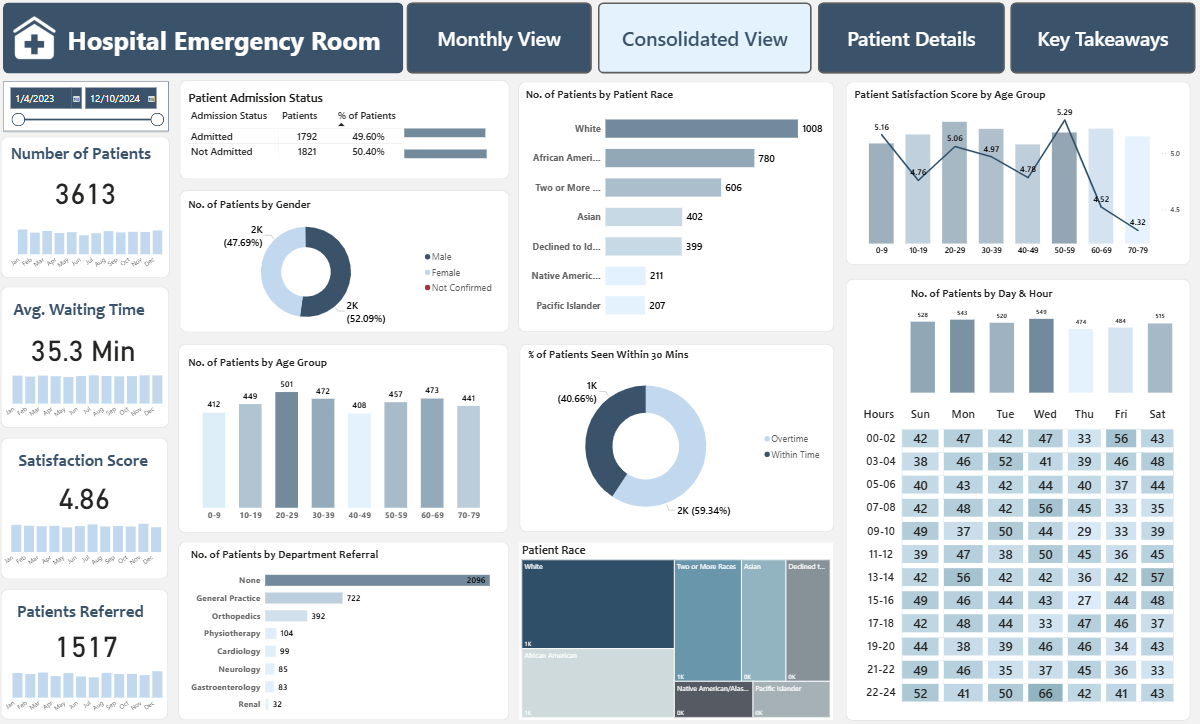

Layout of this report page (visuals, bound fields, positions):
{"tool":"powerbi","page":{"name":"Consolidated View","canvas":[2300,1400],"ordinal":1},"visuals":[{"type":"shape","box":[18.8,13.7,761.5,134.9],"z":0},{"type":"textbox","box":[127.6,48.3,636.2,77.6],"z":1000},{"type":"shape","box":[15.4,269.8,322.7,270],"z":2000},{"type":"card","fields":{"Values":["Hospital ER_Data (3).No. of Patients"]},"box":[100.7,338,152,66.6],"z":3000},{"type":"textbox","box":[29,275.7,291.9,64.7],"z":4000},{"type":"columnChart","fields":{"Category":["Calender.Month"],"Y":["Hospital ER_Data.No. of Patients"]},"box":[27.3,423.4,310.7,116.1],"z":5000},{"type":"shape","box":[13.7,554.9,321,269.8],"z":6000},{"type":"card","fields":{"Values":["Hospital ER_Data (3).Avg. Waiting Time"]},"box":[47.8,636.8,247.6,66.6],"z":7000},{"type":"textbox","box":[34.1,572,292,64.9],"z":8000},{"type":"columnChart","fields":{"Category":["Calender.Month"],"Y":["Avg(Hospital ER_Data.Patient Waittime)"]},"box":[15.5,703.4,320.7,120.7],"z":9000},{"type":"shape","box":[15.4,841.7,319.3,270],"z":10000},{"type":"card","fields":{"Values":["Avg(Hospital ER_Data (3).Patient Satisfaction Score)"]},"box":[97.3,916.8,152,66.6],"z":11000},{"type":"textbox","box":[42.7,860.5,266.3,64.9],"z":12000},{"type":"columnChart","fields":{"Category":["Calender.Month"],"Y":["Avg(Hospital ER_Data.Patient Satisfaction Score)"]},"box":[13.8,984.5,320.7,122.4],"z":13000},{"type":"shape","box":[15.4,1128.5,319.3,249.3],"z":14000},{"type":"card","fields":{"Values":["Hospital ER_Data (3).No. of Patient Referred"]},"box":[103.4,1201.7,144.8,67.2],"z":15000},{"type":"textbox","box":[41,1147.3,266.3,64.9],"z":16000},{"type":"columnChart","fields":{"Category":["Calender.Month"],"Y":["Hospital ER_Data.No. of Patient Referred"]},"box":[15.5,1269,320.7,112.1],"z":17000},{"type":"shape","box":[353.6,161.8,628.6,189.3],"z":18000},{"type":"pivotTable","title":"Patient Admission Status","fields":{"Rows":["Hospital ER_Data.Patient Admission Status"],"Values":["Hospital ER_Data.No. of Patients","Divide(Hospital ER_Data.No. of Patients, ScopedEval(Hospital ER_Data.No. of Patients, [Role.Columns]))"]},"box":[366.1,179.6,589.3,158.9],"z":19000},{"type":"shape","box":[351.8,1039.3,630.4,341.1],"z":20000},{"type":"barChart","fields":{"Y":["Hospital ER_Data.No. of Patients"],"Category":["Hospital ER_Data.Patient Admission Status"]},"box":[778.6,220.7,182.1,117.9],"z":21000},{"type":"shape","box":[351.8,662.5,628.6,360.7],"z":22000},{"type":"clusteredBarChart","fields":{"Y":["Hospital ER_Data.No. of Patients"],"Category":["Hospital ER_Data.Department Referral"]},"box":[371.4,1051.8,608.9,328.6],"z":23000},{"type":"clusteredColumnChart","fields":{"Category":["Hospital ER_Data.Age Group"],"Y":["Hospital ER_Data.No. of Patients"]},"box":[366.1,683.9,594.6,326.8],"z":24000},{"type":"shape","box":[1000.5,662.4,599.3,358.5],"z":25000},{"type":"donutChart","title":"% of Patients Seen Within 30 Mins","fields":{"Y":["Hospital ER_Data.No. of Patients"],"Category":["Hospital ER_Data.Waiting Status"]},"box":[1012.4,671,573.7,350],"z":26000},{"type":"shape","box":[353.4,370.5,628.3,271.5],"z":27000},{"type":"donutChart","title":"No. of Patients by Gender","fields":{"Y":["Hospital ER_Data.No. of Patients"],"Category":["Hospital ER_Data.Patient Gender"]},"box":[365.4,384.1,597.6,257.8],"z":28000},{"type":"shape","box":[998.3,163.8,601.7,477.6],"z":29000},{"type":"clusteredBarChart","fields":{"Y":["Hospital ER_Data.No. of Patients"],"Category":["Hospital ER_Data.Patient Race"]},"box":[1009,175.9,577.1,461],"z":30000},{"type":"shape","box":[1620.7,539.7,656.9,841.4],"z":31000},{"type":"pivotTable","fields":{"Rows":["Hospital ER_Data.Waittime Interval"],"Columns":["Calender.Day"],"Values":["Hospital ER_Data.No. of Patients"]},"box":[1646.6,775.9,605.2,586.2],"z":32000},{"type":"clusteredColumnChart","title":"No. of Patients by Day & Hour","fields":{"Y":["Hospital ER_Data.No. of Patients"],"Category":["Calender.Day"]},"box":[1741.4,555.2,510.3,208.6],"z":33000},{"type":"actionButton","box":[787.1,13.7,351.7,134.9],"z":34000},{"type":"actionButton","box":[1150.7,13.7,406.3,134.9],"z":35000},{"type":"actionButton","box":[1936.1,13.7,351.7,134.9],"z":36000},{"type":"actionButton","box":[1569,13.7,355.1,134.9],"z":37000},{"type":"slicer","fields":{"Values":["Calender.Date"]},"box":[19,163.8,315.5,94.8],"z":38000},{"type":"treemap","title":"Patient Race","fields":{"Group":["Hospital ER_Data.Patient Race"],"Values":["Hospital ER_Data.No. of Patients"]},"box":[1001.7,1041.4,596.6,337.9],"z":39000},{"type":"shape","box":[1620.7,163.8,656.9,350],"z":40000},{"type":"image","box":[29.3,34.5,100,91.4],"z":41000},{"type":"lineClusteredColumnComboChart","title":"Patient Satisfaction Score by Age Group","fields":{"Category":["Hospital ER_Data.Age Group"],"Y":["Hospital ER_Data.No. of Patients"],"Y2":["Avg(Hospital ER_Data.Patient Satisfaction Score)"]},"box":[1632.8,175.9,632.8,331],"z":42000}]}

Visuals, with their boxes in screenshot pixels (x1, y1, x2, y2), scaled from the page's 2300x1400 canvas onto the 1200x724 screenshot:
shape: 10,7,407,77
textbox: 67,25,399,65
shape: 8,140,176,279
card - Hospital ER_Data (3).No. of Patients: 53,175,132,209
textbox: 15,143,167,176
columnChart - Calender.Month x Hospital ER_Data.No. of Patients: 14,219,176,279
shape: 7,287,175,426
card - Hospital ER_Data (3).Avg. Waiting Time: 25,329,154,364
textbox: 18,296,170,329
columnChart - Calender.Month x Avg(Hospital ER_Data.Patient Waittime): 8,364,175,426
shape: 8,435,175,575
card - Avg(Hospital ER_Data (3).Patient Satisfaction Score): 51,474,130,509
textbox: 22,445,161,479
columnChart - Calender.Month x Avg(Hospital ER_Data.Patient Satisfaction Score): 7,509,175,572
shape: 8,584,175,713
card - Hospital ER_Data (3).No. of Patient Referred: 54,621,129,656
textbox: 21,593,160,627
columnChart - Calender.Month x Hospital ER_Data.No. of Patient Referred: 8,656,175,714
shape: 184,84,512,182
"Patient Admission Status" pivotTable: 191,93,498,175
shape: 184,537,512,714
barChart - Hospital ER_Data.No. of Patients x Hospital ER_Data.Patient Admission Status: 406,114,501,175
shape: 184,343,512,529
clusteredBarChart - Hospital ER_Data.No. of Patients x Hospital ER_Data.Department Referral: 194,544,511,714
clusteredColumnChart - Hospital ER_Data.Age Group x Hospital ER_Data.No. of Patients: 191,354,501,523
shape: 522,343,835,528
"% of Patients Seen Within 30 Mins" donutChart: 528,347,828,528
shape: 184,192,512,332
"No. of Patients by Gender" donutChart: 191,199,502,332
shape: 521,85,835,332
clusteredBarChart - Hospital ER_Data.No. of Patients x Hospital ER_Data.Patient Race: 526,91,828,329
shape: 846,279,1188,714
pivotTable - Hospital ER_Data.Waittime Interval x Calender.Day: 859,401,1175,704
"No. of Patients by Day & Hour" clusteredColumnChart: 909,287,1175,395
actionButton: 411,7,594,77
actionButton: 600,7,812,77
actionButton: 1010,7,1194,77
actionButton: 819,7,1004,77
slicer - Calender.Date: 10,85,175,134
"Patient Race" treemap: 523,539,834,713
shape: 846,85,1188,266
image: 15,18,67,65
"Patient Satisfaction Score by Age Group" lineClusteredColumnComboChart: 852,91,1182,262
